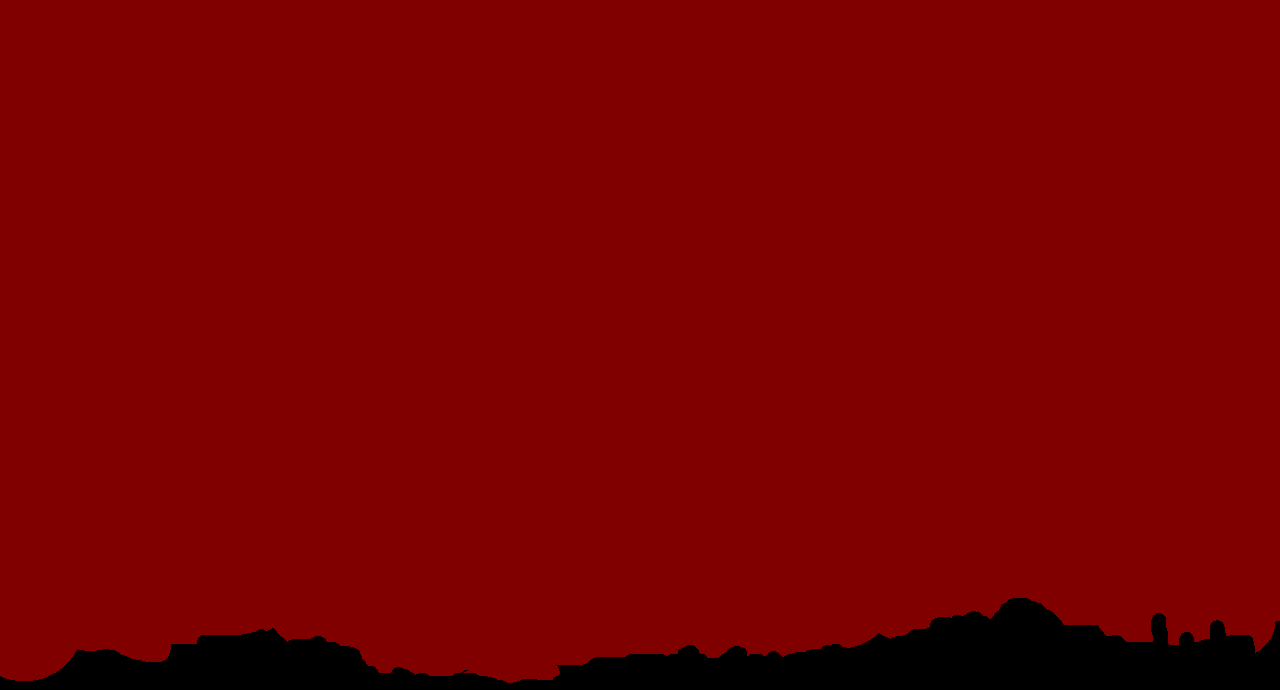Sky: (1, 1, 1279, 682)
